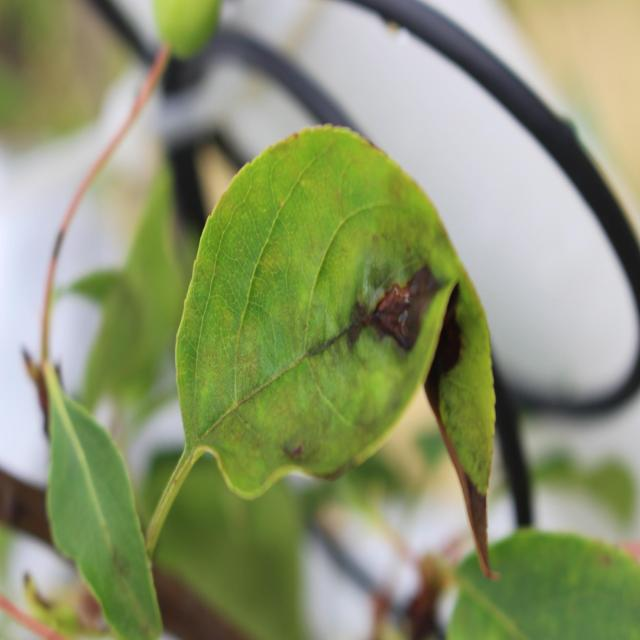rust: (175, 122, 498, 581)
